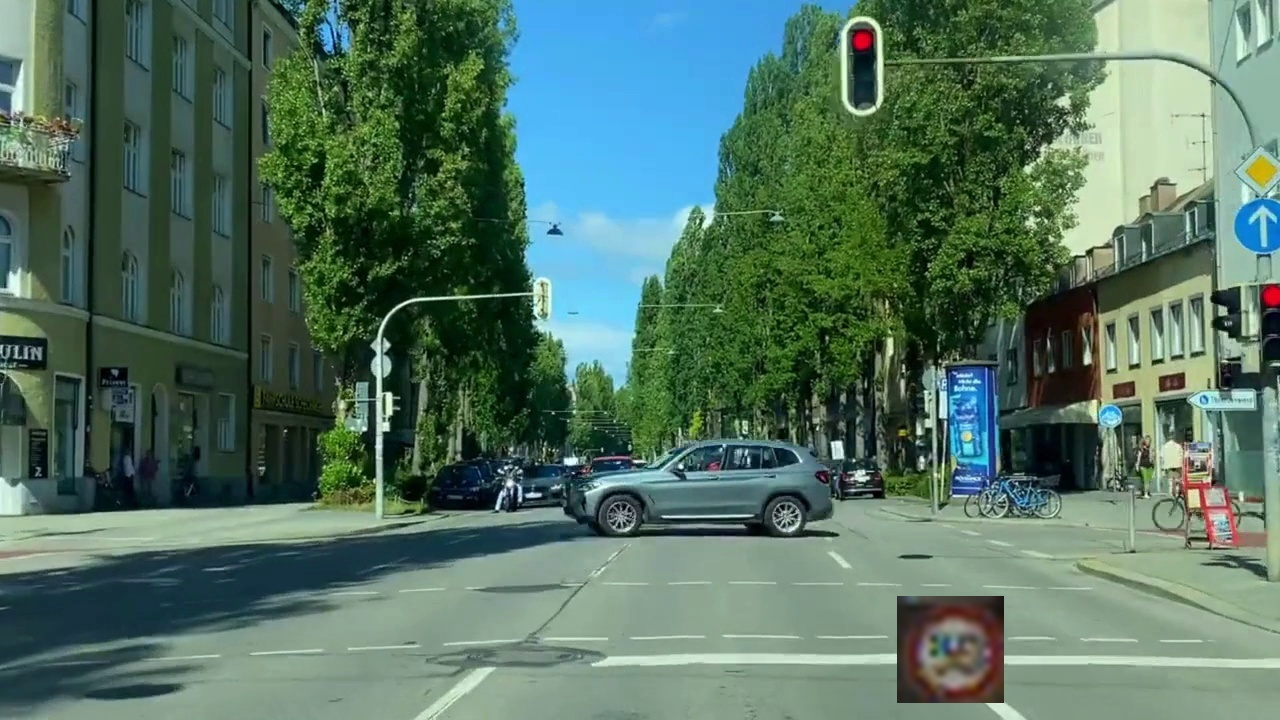Speed 50: (897, 596, 1004, 703)
